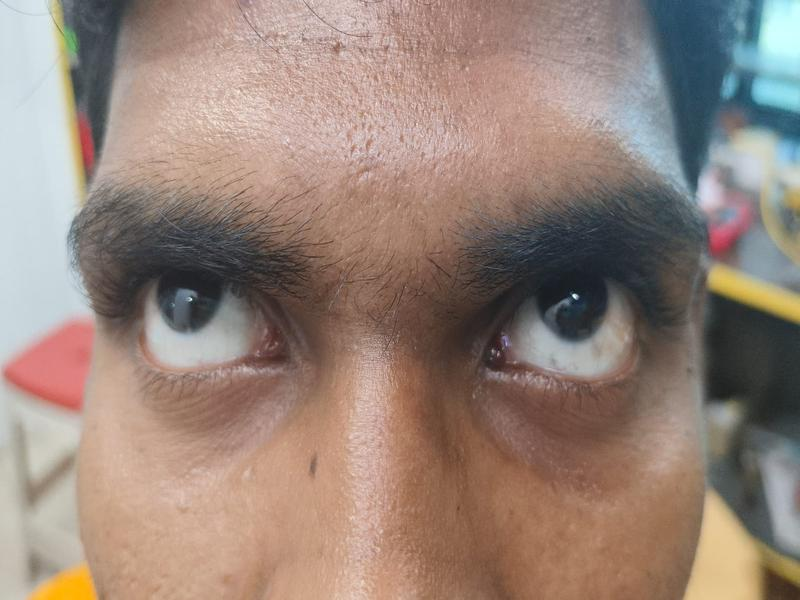EYE UP: (138, 280, 264, 381), (507, 283, 632, 376)
